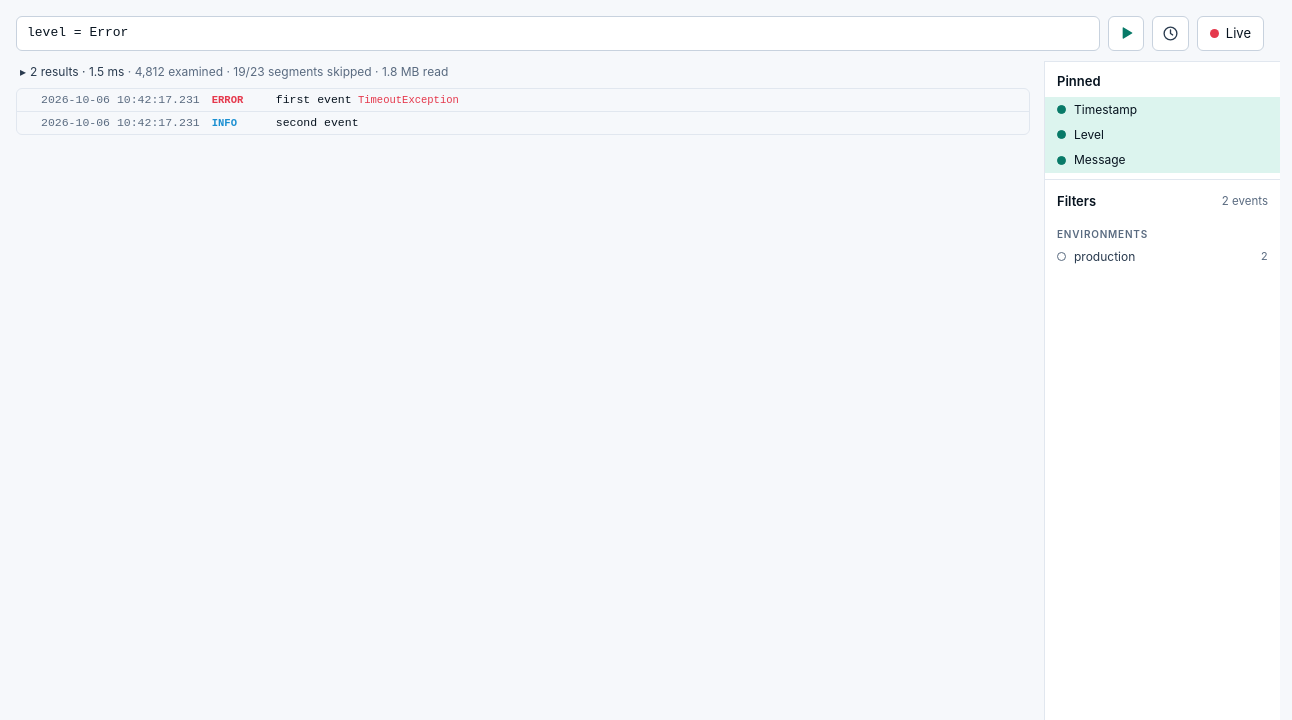
LogsPage › runs the query from the URL and renders rows and diagnostics
This screenshot has width=1292, height=720.
Expected: the text "first event" is shown, [276, 93, 352, 106]
Expected: the text "second event" is shown, [276, 116, 358, 129]
Click the button "results": (232, 72) [16, 61, 448, 82]
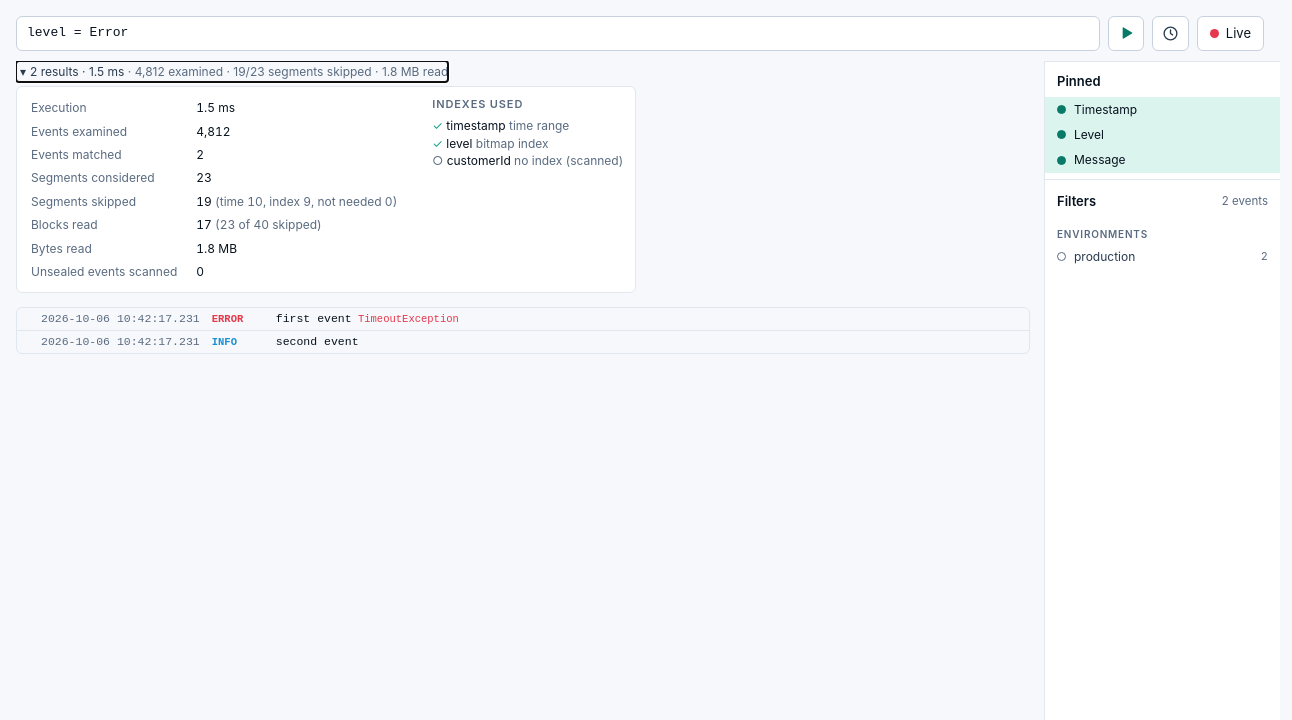
Expected: the element with test id "diagnostics" shows "1.8 MB", [196, 241, 237, 256]
Expected: the element with test id "diagnostics" shows "level", [446, 136, 472, 151]
Expected: the element with test id "diagnostics" shows "no index (scanned)", [514, 153, 623, 168]
